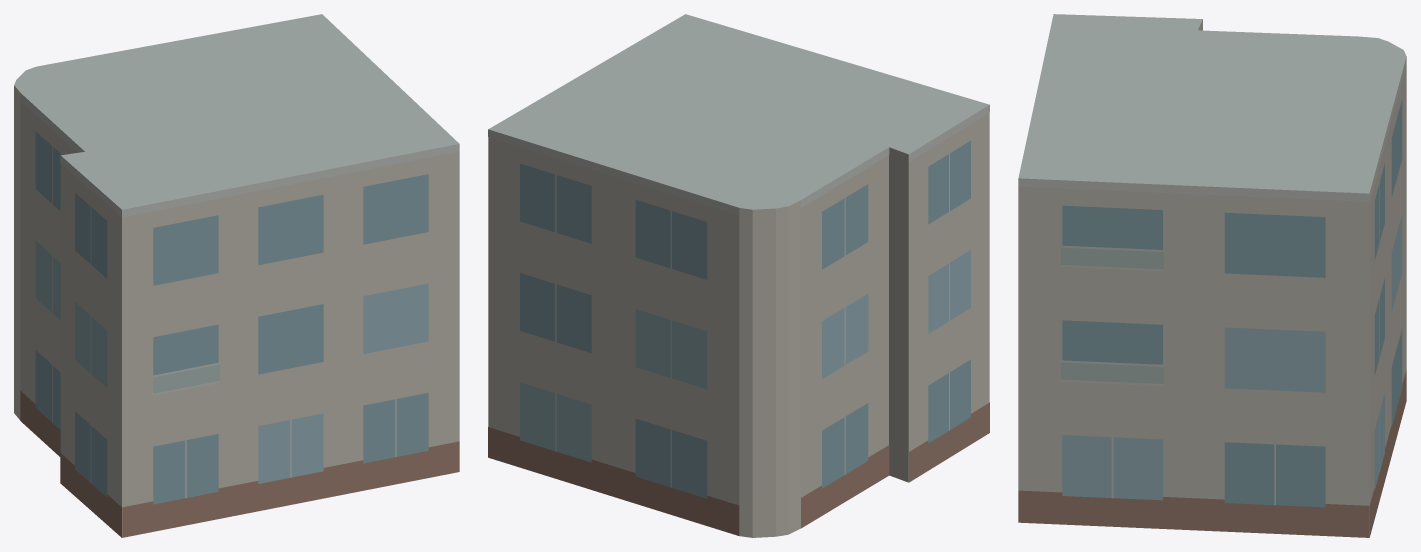
File: survey-upis-32658770.glb
3 views of the same model, side by side, from view 1: azimuth 30°, elevation 25°; view 2: azimuth 150°, elevation 25°; view 3: azimuth 270°, elevation 25° (orthographic). The views are drawn at different scales.
Parts seen in each view (by area): view 1: survey-upis-32658770.tmp; view 2: survey-upis-32658770.tmp; view 3: survey-upis-32658770.tmp.
Part boxes in pixels (x1,y1,x2,y2): survey-upis-32658770.tmp: (14, 14, 459, 537); survey-upis-32658770.tmp: (488, 14, 989, 537); survey-upis-32658770.tmp: (1018, 14, 1406, 537).
Bounding box in the file's own units: 11.42 × 10.2 × 10.44.
